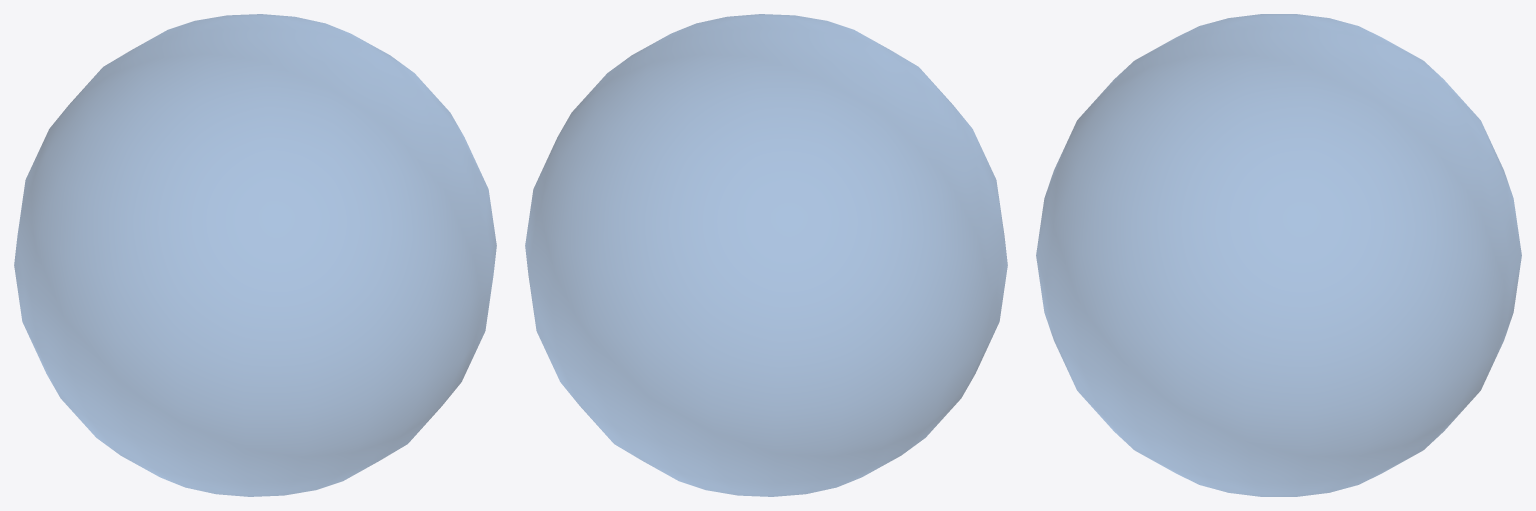
Rendered from Balon_V2.fbx.
The picture shows the model from 3 angles, left to right: view 1: azimuth 30°, elevation 25°; view 2: azimuth 150°, elevation 25°; view 3: azimuth 270°, elevation 25°; orthographic projection.
Parts seen in each view (by area): view 1: Sphere; view 2: Sphere; view 3: Sphere.
Part boxes in pixels (x1,y1,x2,y2): Sphere: (14,14,496,496); Sphere: (525,14,1007,496); Sphere: (1036,14,1521,496).
Bounding box in the file's own units: 198 × 200 × 200.
